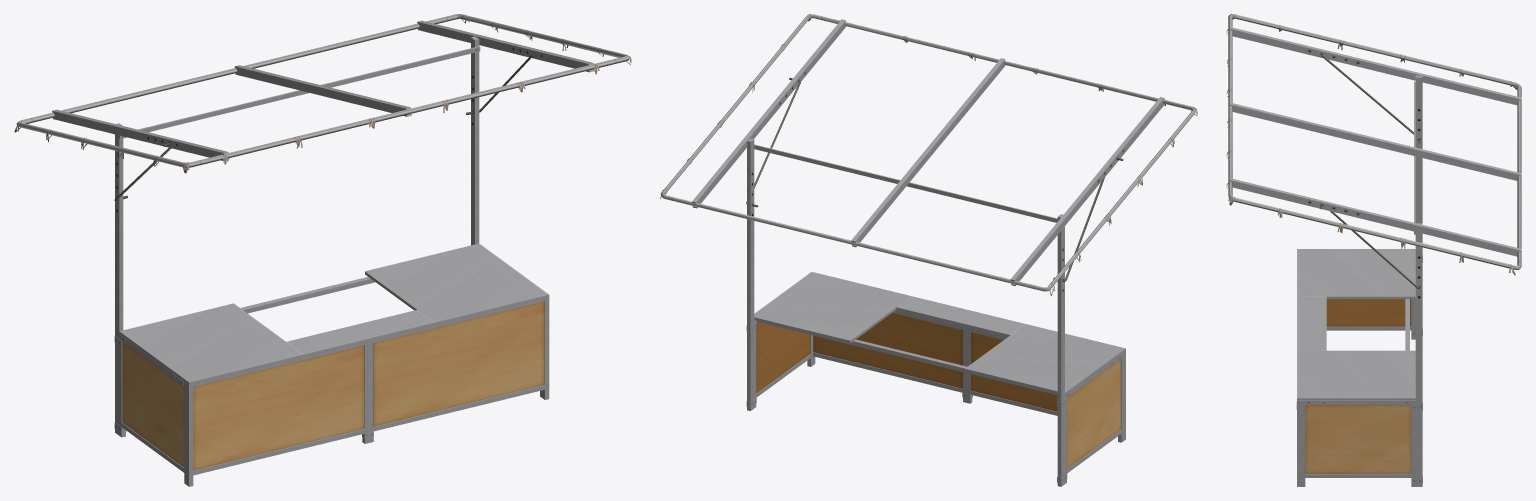
Rendered from jsf_2P_s03_c05_t02.fbx.
3 views of the same model, side by side, from view 1: azimuth 30°, elevation 25°; view 2: azimuth 150°, elevation 25°; view 3: azimuth 270°, elevation 25° (orthographic). The views are drawn at different scales.
Visible parts, largest first — view 1: Base_s03_c05, Table_2P_s03_t02, Pillar2_s03, Rope_2P_s03; view 2: Base_s03_c05, Pillar2_s03, Table_2P_s03_t02; view 3: Pillar2_s03, Table_2P_s03_t02, Base_s03_c05, Rope_2P_s03.
Part boxes in pixels (<box>): Base_s03_c05: <box>114,294,549,486</box>; Table_2P_s03_t02: <box>119,243,547,385</box>; Pillar2_s03: <box>16,14,629,435</box>; Rope_2P_s03: <box>14,14,631,173</box>; Base_s03_c05: <box>746,271,1125,483</box>; Pillar2_s03: <box>660,14,1196,486</box>; Table_2P_s03_t02: <box>754,272,1125,397</box>; Pillar2_s03: <box>1228,14,1521,486</box>; Table_2P_s03_t02: <box>1298,249,1415,404</box>; Base_s03_c05: <box>1296,249,1422,486</box>; Rope_2P_s03: <box>1226,14,1517,275</box>.
Size of the model in its own units: 316 by 244 by 211.
